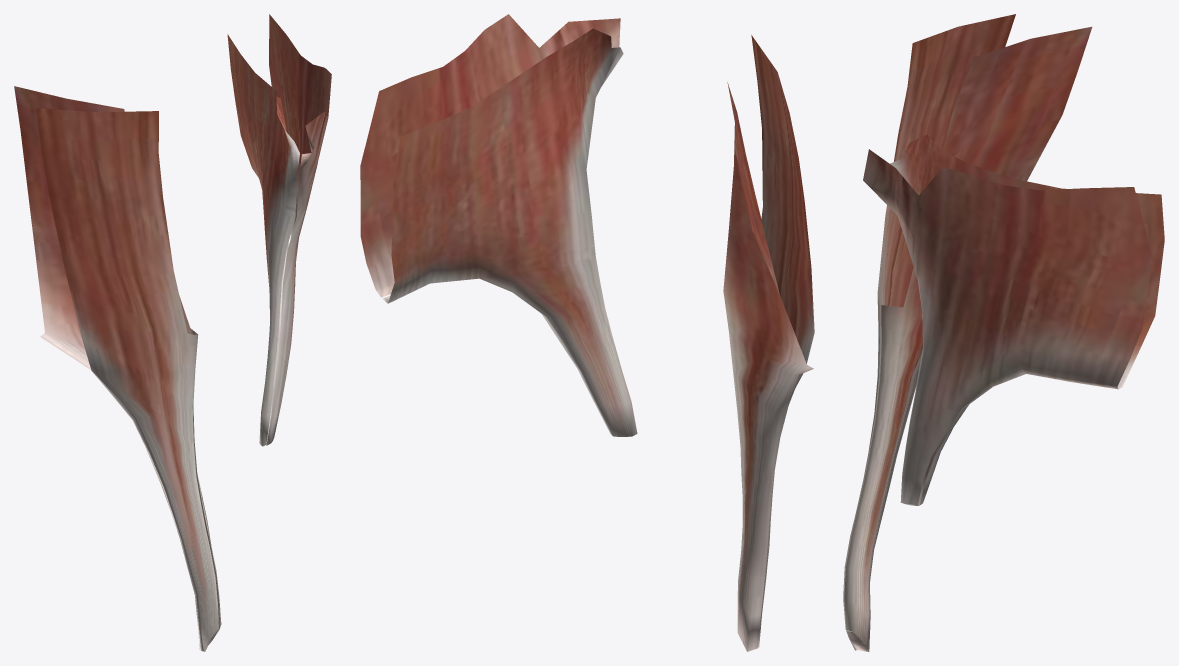
File: diaphragm_parts.glb
3 renders of one model, left to right at view 1: azimuth 30°, elevation 25°; view 2: azimuth 150°, elevation 25°; view 3: azimuth 270°, elevation 25°, orthographic. The views are drawn at different scales.
Visible parts, largest first — view 1: Right crus of diaphragm, Left crus of diaphragm; view 2: Left crus of diaphragm, Right crus of diaphragm; view 3: Left crus of diaphragm, Right crus of diaphragm.
Boxes of the visible parts, left/top/right/bottom form: Right crus of diaphragm: left=14, top=86, right=221, bottom=651; Left crus of diaphragm: left=227, top=14, right=331, bottom=446; Left crus of diaphragm: left=360, top=14, right=637, bottom=436; Right crus of diaphragm: left=723, top=35, right=814, bottom=651; Left crus of diaphragm: left=863, top=134, right=1164, bottom=505; Right crus of diaphragm: left=843, top=14, right=1092, bottom=651.
Bounding box in the file's own units: 0.0641 × 0.1056 × 0.0516.
1 material, 1 textured.
